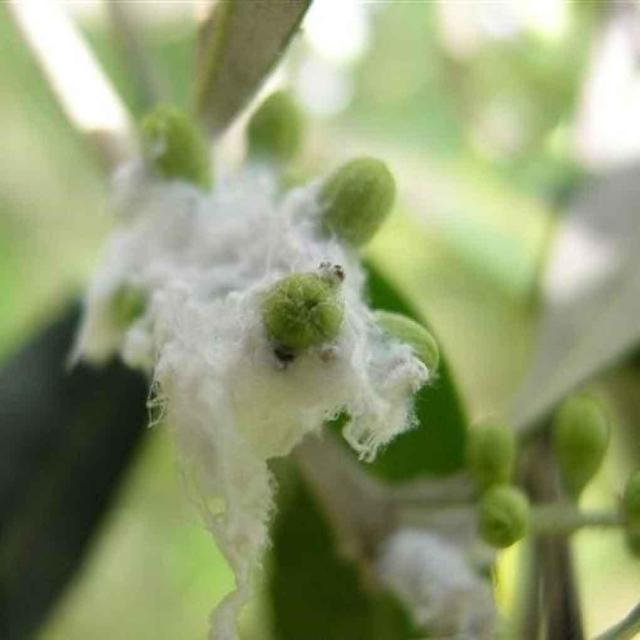Psyllid: (73, 121, 437, 640)
